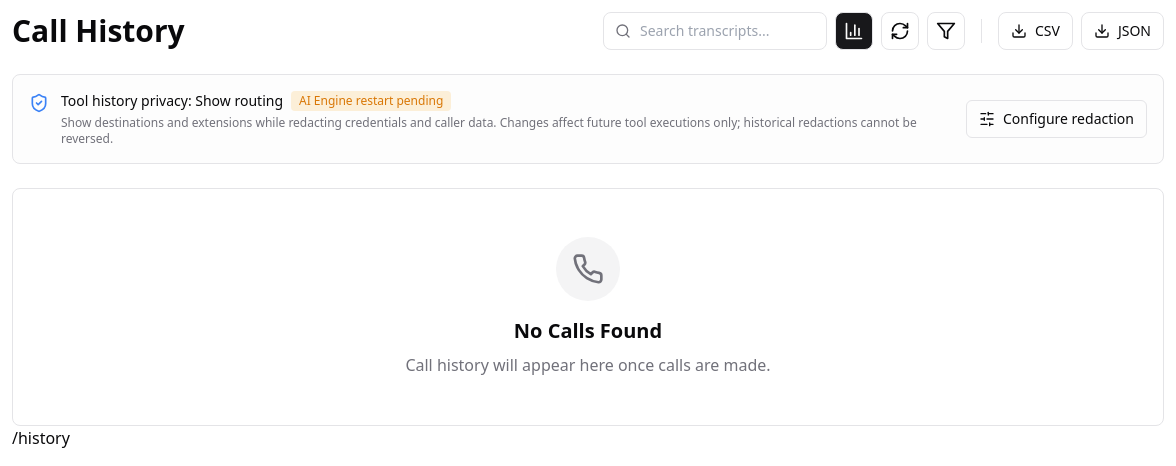
Test case: CallHistoryPage deep links › surfaces the configured policy and links to its Environment setting
Check: the text "Tool history privacy: Show routing" is shown, box [61,91,283,111]
Check: the text "AI Engine restart pending" is shown, box [291,91,451,111]
What coordinates should you click on to do the following:
click the button "Configure redaction"
I would click on:
 (1056, 119)
Its box is [966,100,1147,138].
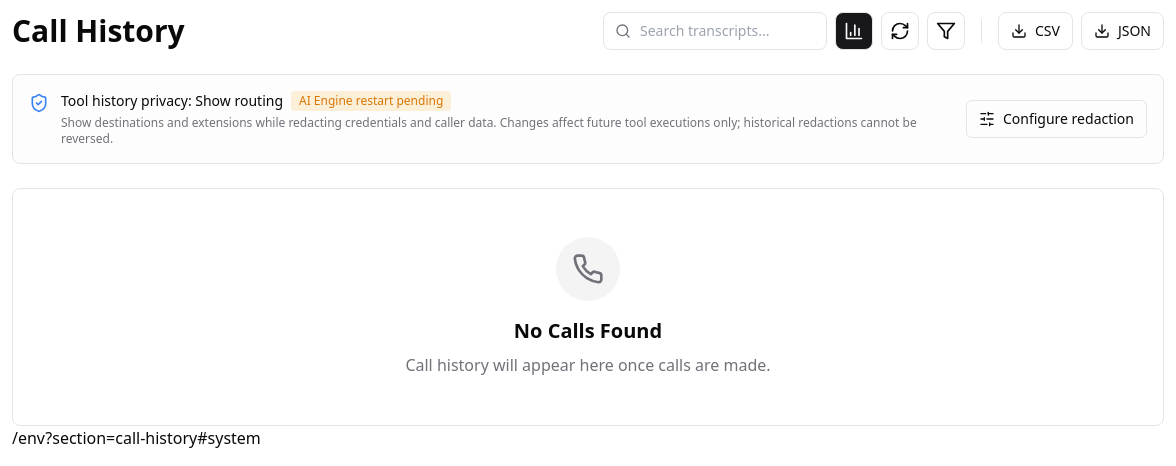
Check: the text with test id "full-location" reads "/env?section=call-history#system", box [12,427,261,449]
